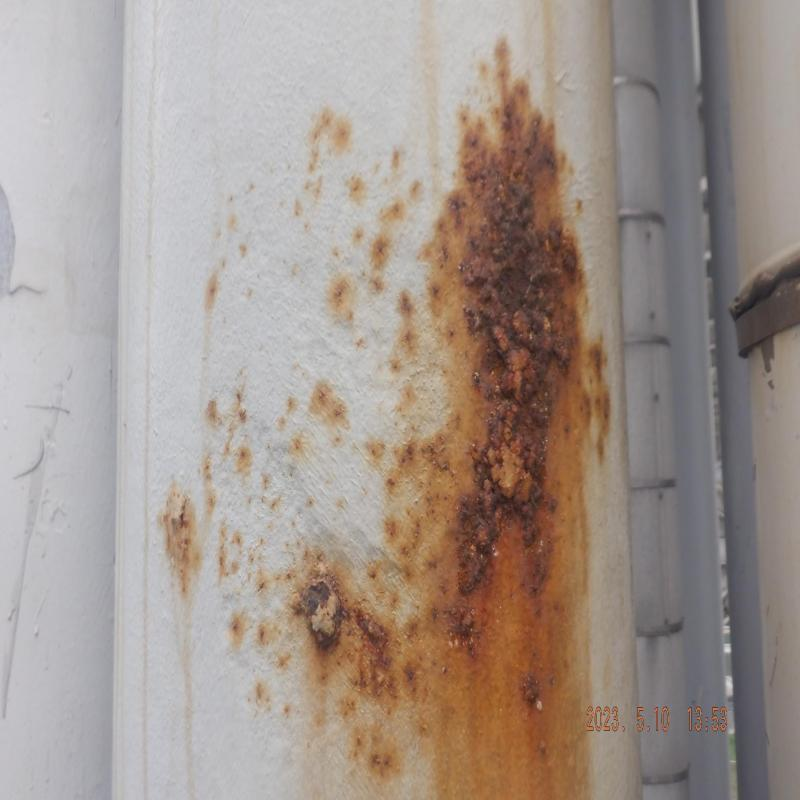corrosion: (418, 179, 587, 774)
